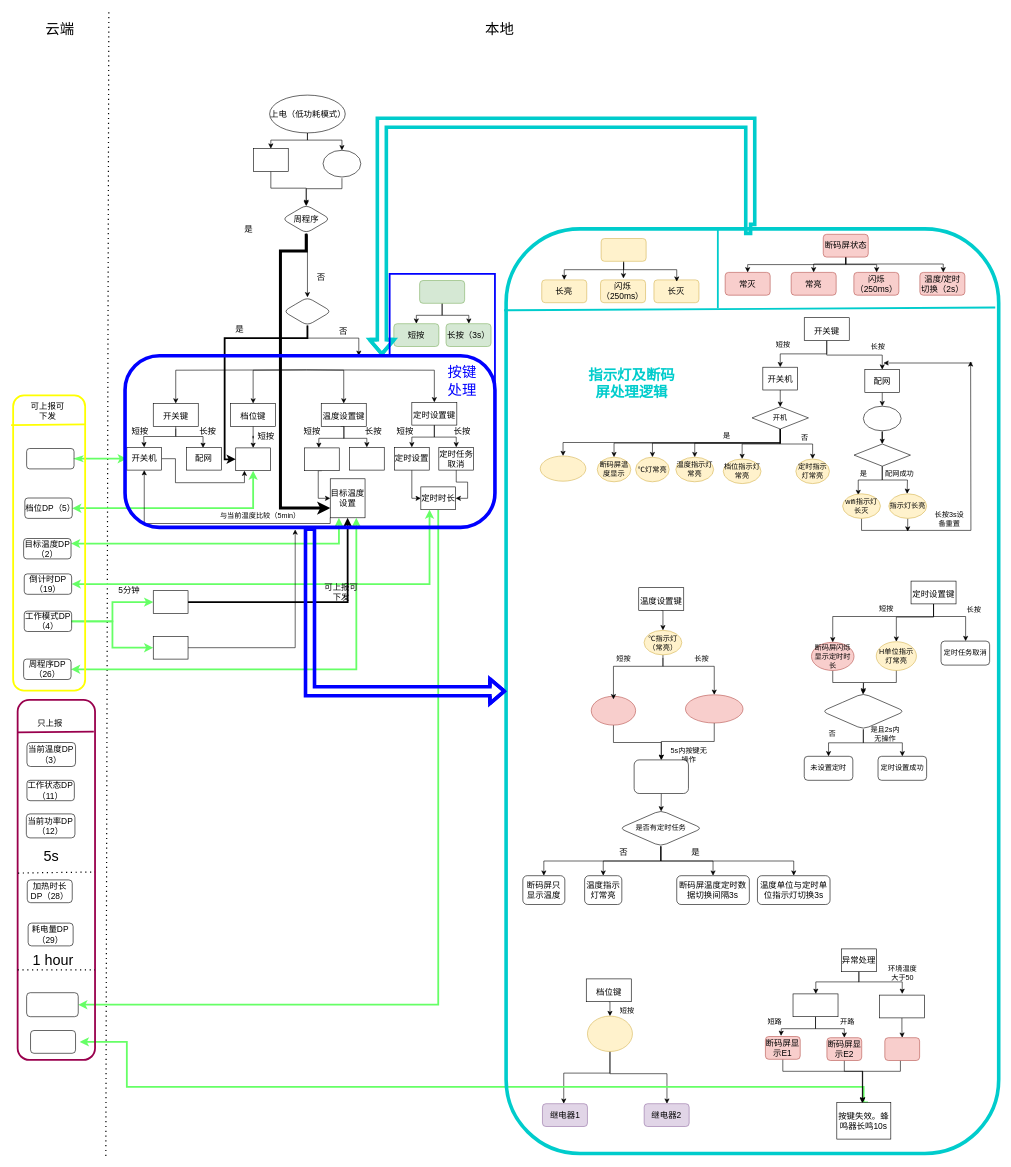
Image size: 1011x1167. Some labels were removed from this diagram. The centre of each missing label's shape, as x and y in pixels:
"低/中/高档位指示灯（切换" belongs at pixel 609 1034.
"低中高档位指示灯常亮" belongs at pixel 563 468.
"倒计时剩余时间DP（20）" belongs at pixel 52 1004.
"具体目标温度设置" belongs at pixel 366 458.
"安全保护" belongs at pixel 901 1006.
"定时时长大于0" belongs at pixel 863 711.
"开关DP（1）" belongs at pixel 50 458.
"手动模式" belongs at pixel 170 647.
"指示灯状态" belongs at pixel 623 249.
"按键状态" belongs at pixel 442 291.
"故障告警DP（12）" belongs at pixel 53 1041.
"断电记忆" belongs at pixel 307 311.
"断码屏显示FF" belongs at pixel 902 1048.
"断码屏闪烁显示目标温度值" belongs at pixel 613 710.
"温度传感异常" belongs at pixel 815 1005.
"温度每隔一秒上升一度循环显示，" belongs at pixel 714 708.
"温度设置成功" belongs at pixel 661 776.
"电源指示灯（常亮）" belongs at pixel 341 163.
"目标温度切换" belongs at pixel 321 459.
"自动模式" belongs at pixel 170 602.
"蜂鸣器(长鸣3s)" belongs at pixel 270 159.
"调节档位" belongs at pixel 253 459.
"配网指示灯闪烁" belongs at pixel 882 418.
"配网超过3分钟" belongs at pixel 881 454.
